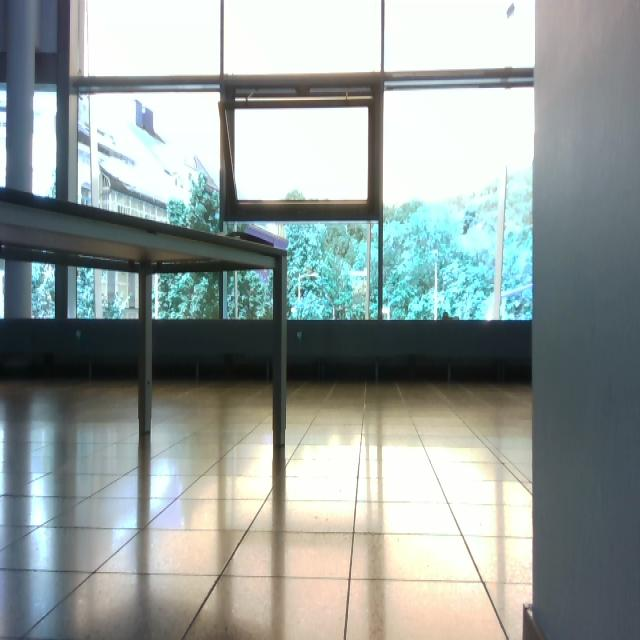door: (2, 1, 639, 640), (147, 265, 281, 445)
light bulb: (297, 269, 319, 320), (507, 3, 515, 19)
pillar: (529, 1, 640, 640), (138, 271, 154, 435)
table: (2, 185, 292, 452)
tiled floor: (2, 377, 534, 638)
